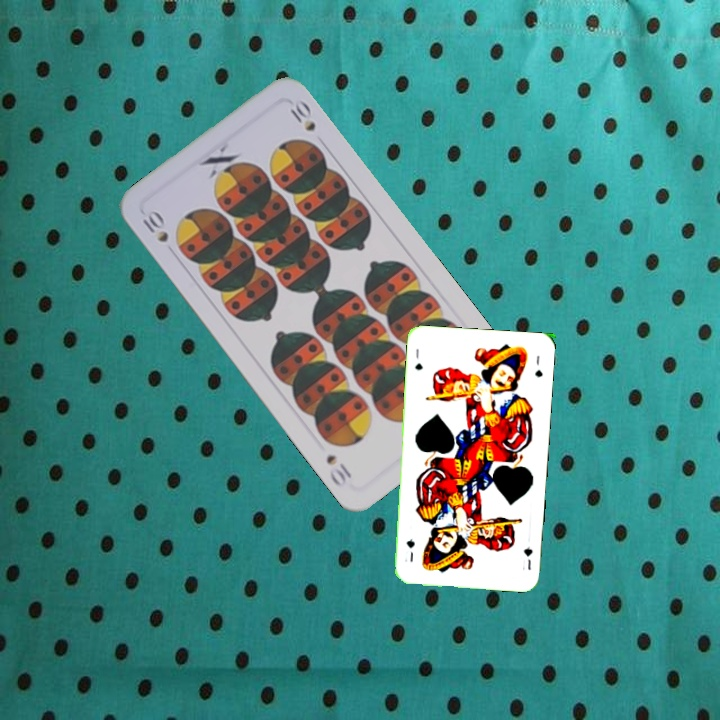GU: (519, 542, 535, 572), (411, 345, 425, 373)
S10: (138, 208, 171, 245)
